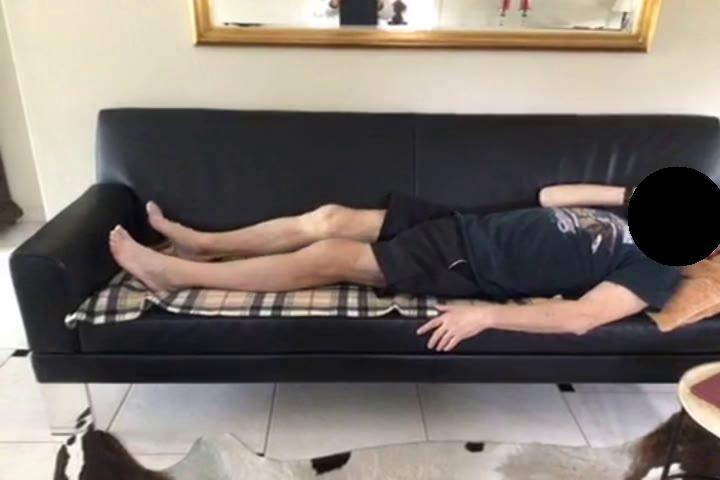lower_body: (109, 200, 482, 302)
